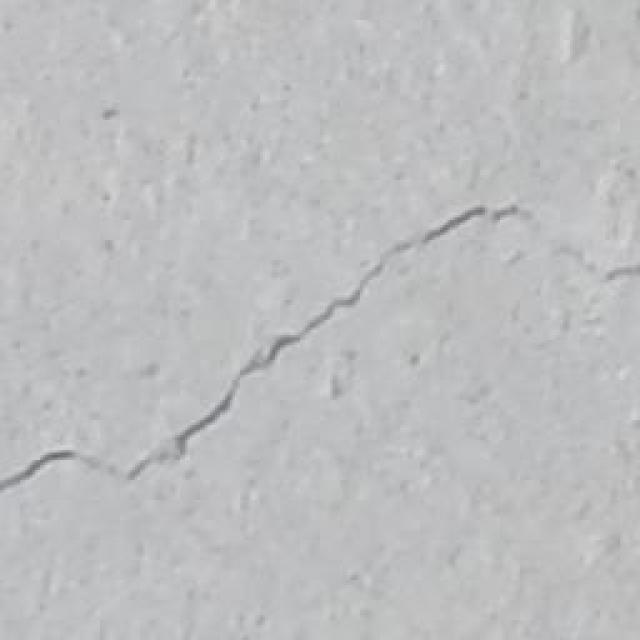concrete-crack: (0, 197, 640, 497)
